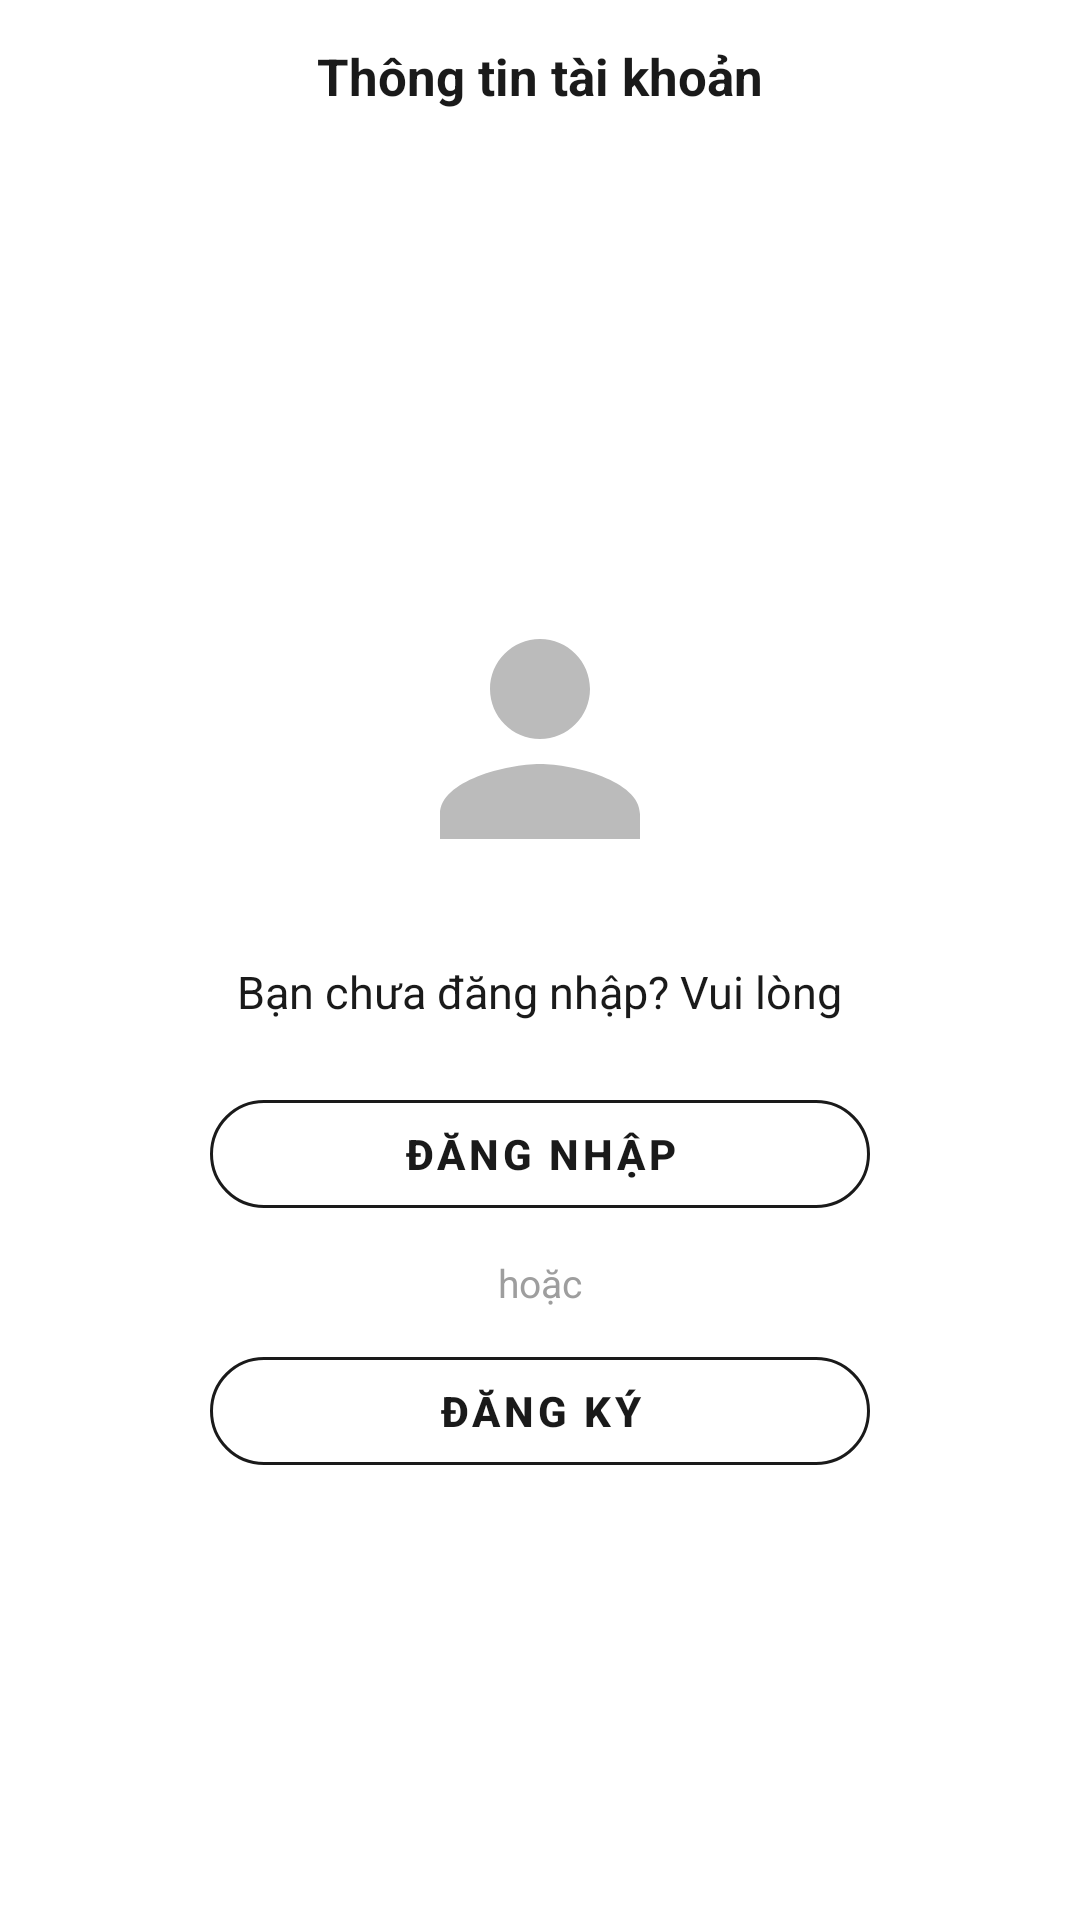

Named icons in this screenshot (1080*1920) and their centers, point (x, y):
Avatar: point (540, 739)
